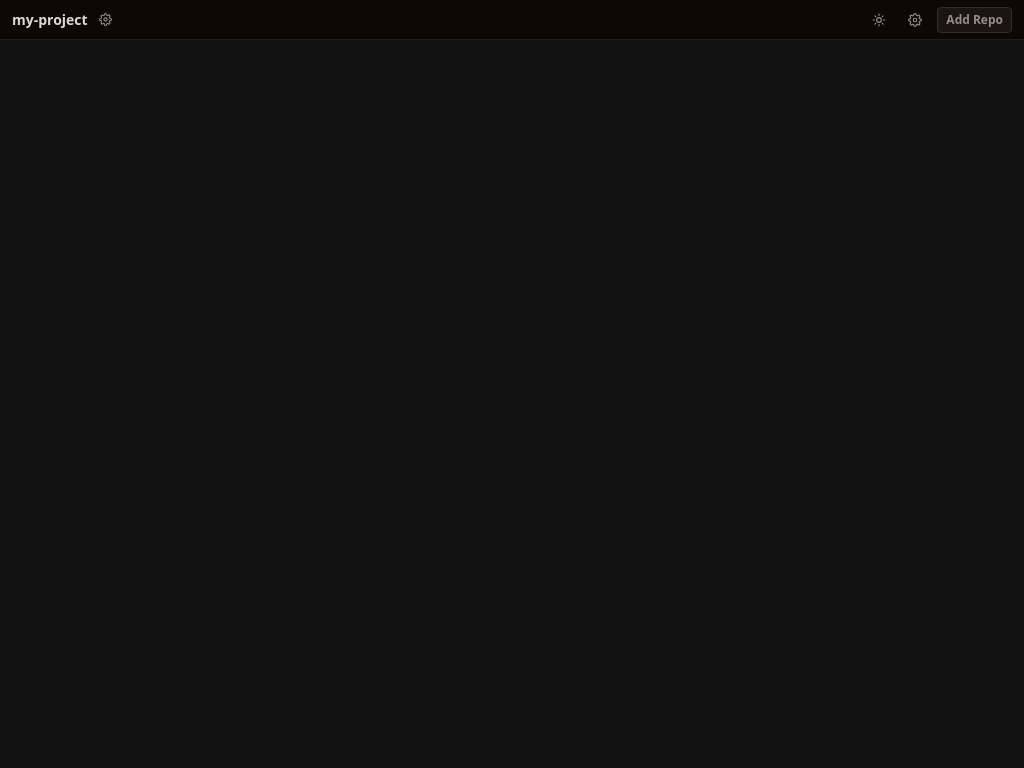
Test: TitleBar repo context menu › right-click on the repo name opens RepoSettingsDialog
This screenshot has width=1024, height=768.
Right-click the text with test id "repo-row-repo_abc123".
right_click(50, 20)  # box [12,10,88,30]
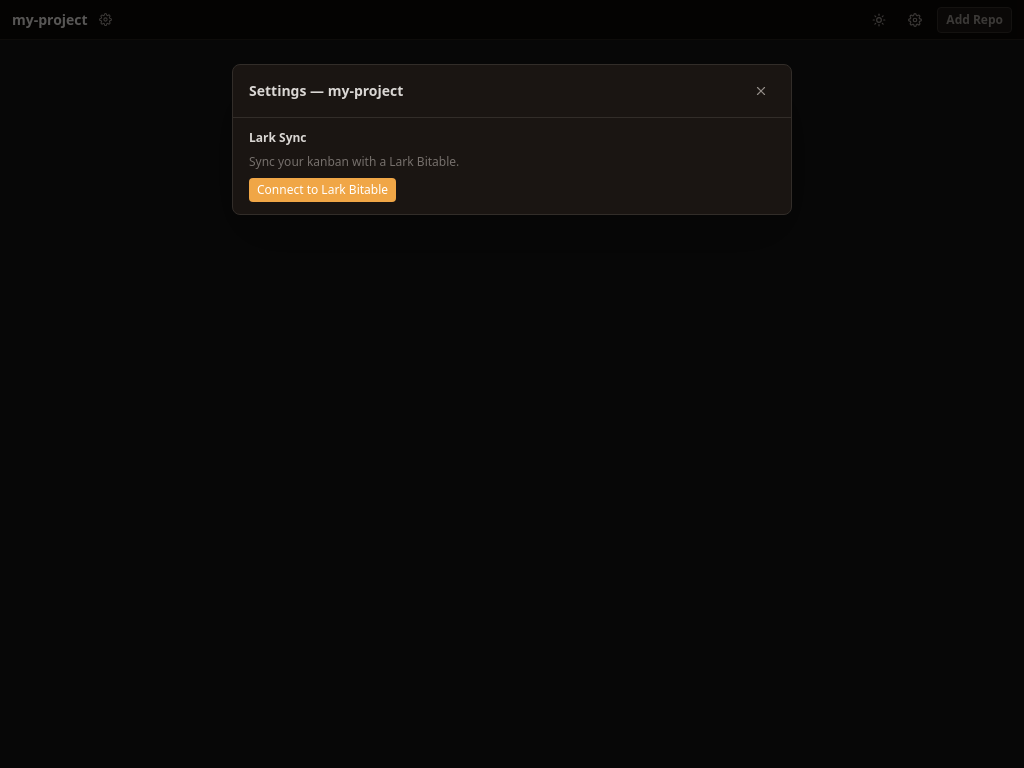
Now the element with test id "binding-empty" is shown, box [249,153,459,202]
